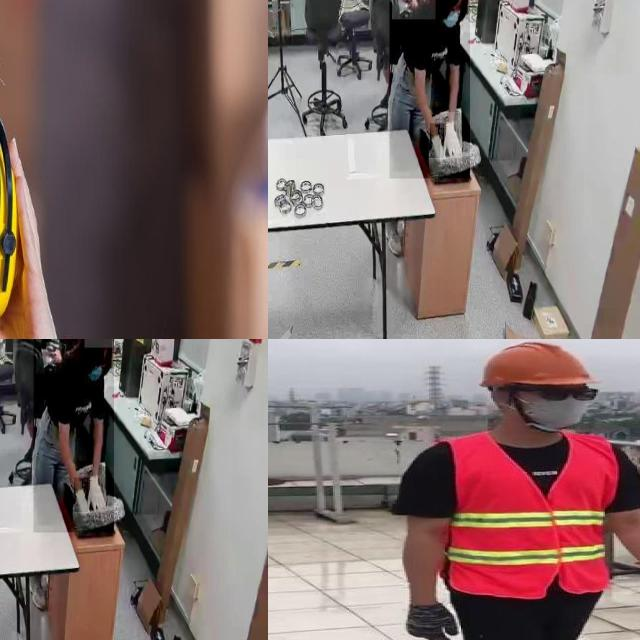face_mask: (85, 352, 104, 387), (441, 0, 460, 32)
hand_glove: (440, 112, 462, 165), (84, 466, 106, 519), (430, 123, 444, 159), (74, 477, 88, 513)
hand_noglove: (46, 342, 62, 364), (402, 0, 417, 9)
head_helmet: (468, 339, 596, 388)
head_nohelmet: (84, 339, 113, 348)
person: (384, 339, 640, 640), (33, 339, 114, 533), (389, 0, 470, 179), (36, 339, 79, 373), (392, 0, 435, 19)
vest: (438, 434, 612, 597)
